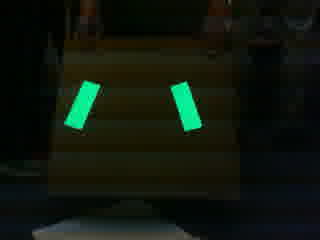target: (62, 80, 203, 133)
